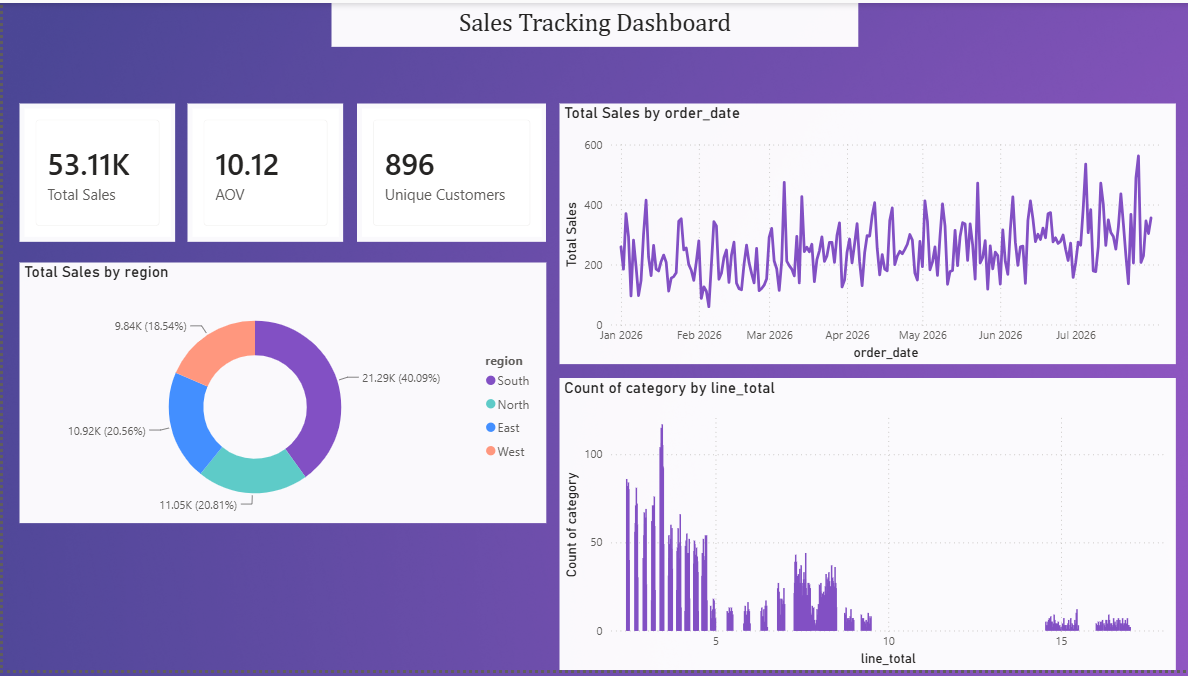

The page's visual inventory and layout, read from the dashboard file:
{"tool":"powerbi","page":{"name":"Page 1","canvas":[1280,720],"ordinal":0},"visuals":[{"type":"cardVisual","fields":{"Data":["orders.Total Sales"]},"box":[17,107.7,168.2,149.3],"z":0},{"type":"cardVisual","fields":{"Data":["orders.AOV"]},"box":[198.4,107.7,168.2,149.3],"z":1000},{"type":"cardVisual","fields":{"Data":["orders.Unique Customers"]},"box":[381.7,107.7,204.1,149.3],"z":2000},{"type":"lineChart","fields":{"Category":["orders.order_date"],"Y":["orders.Total Sales"]},"box":[600.9,107.7,665.2,281.6],"z":3000},{"type":"donutChart","fields":{"Category":["orders.region"],"Y":["orders.Total Sales"]},"box":[17,279.7,568.8,281.6],"z":4000},{"type":"columnChart","fields":{"Category":["order_items.line_total"],"Y":["CountNonNull(order_items.category)"]},"box":[600.9,404.4,665.2,315.6],"z":5000},{"type":"textbox","box":[355.3,0,568.8,47.2],"z":5001}]}

Visuals, with their boxes in screenshot pixels (x1, y1, x2, y2), scaled from the page's 1280x720 canvas onto the 1188x676 screenshot:
cardVisual - orders.Total Sales: x1=16, y1=101, x2=172, y2=241
cardVisual - orders.AOV: x1=184, y1=101, x2=340, y2=241
cardVisual - orders.Unique Customers: x1=354, y1=101, x2=544, y2=241
lineChart - orders.order_date x orders.Total Sales: x1=558, y1=101, x2=1175, y2=366
donutChart - orders.region x orders.Total Sales: x1=16, y1=263, x2=544, y2=527
columnChart - order_items.line_total x CountNonNull(order_items.category): x1=558, y1=380, x2=1175, y2=675
textbox: x1=330, y1=0, x2=858, y2=44
